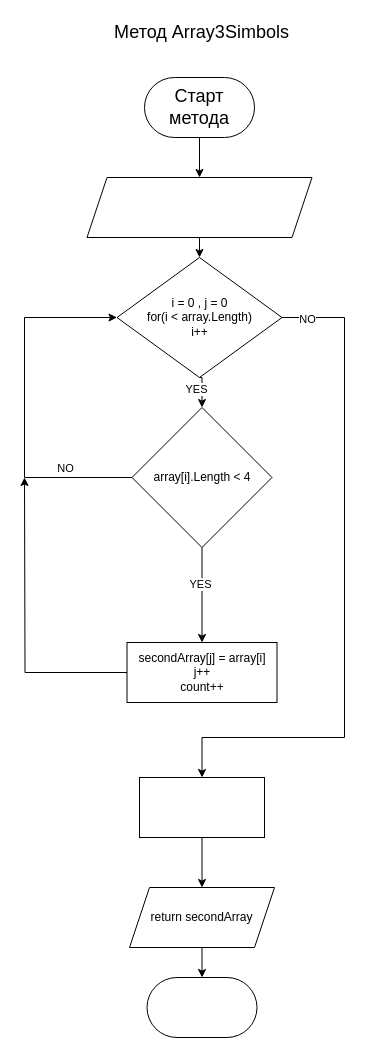
Image size: 370x1055. Some labels were removed from this diagram. The centre of each missing label's shape, as x and y in pixels:
"Array.Resize(ref secondArray, count)" goes at (201,807).
"array[] = array.Length count = 0" goes at (199,207).
"Конец метода" goes at (201,1007).
